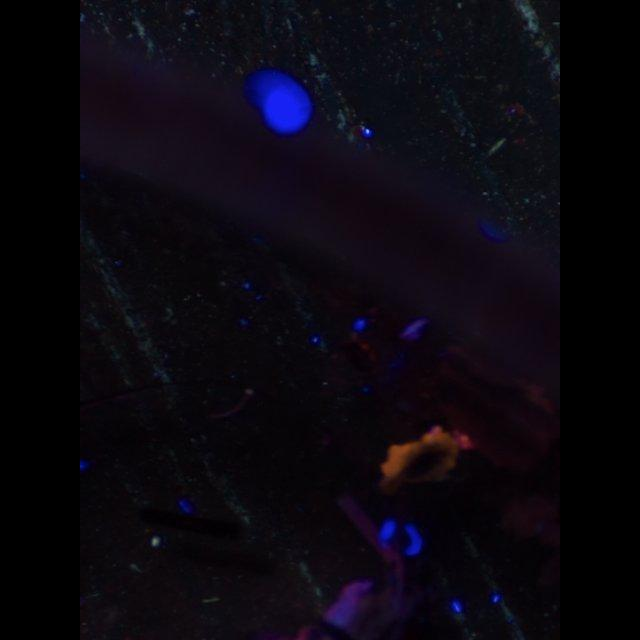microbeads: (150, 536, 162, 548)
